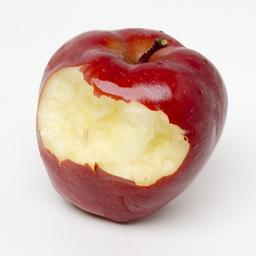apple: (35, 27, 227, 221)
